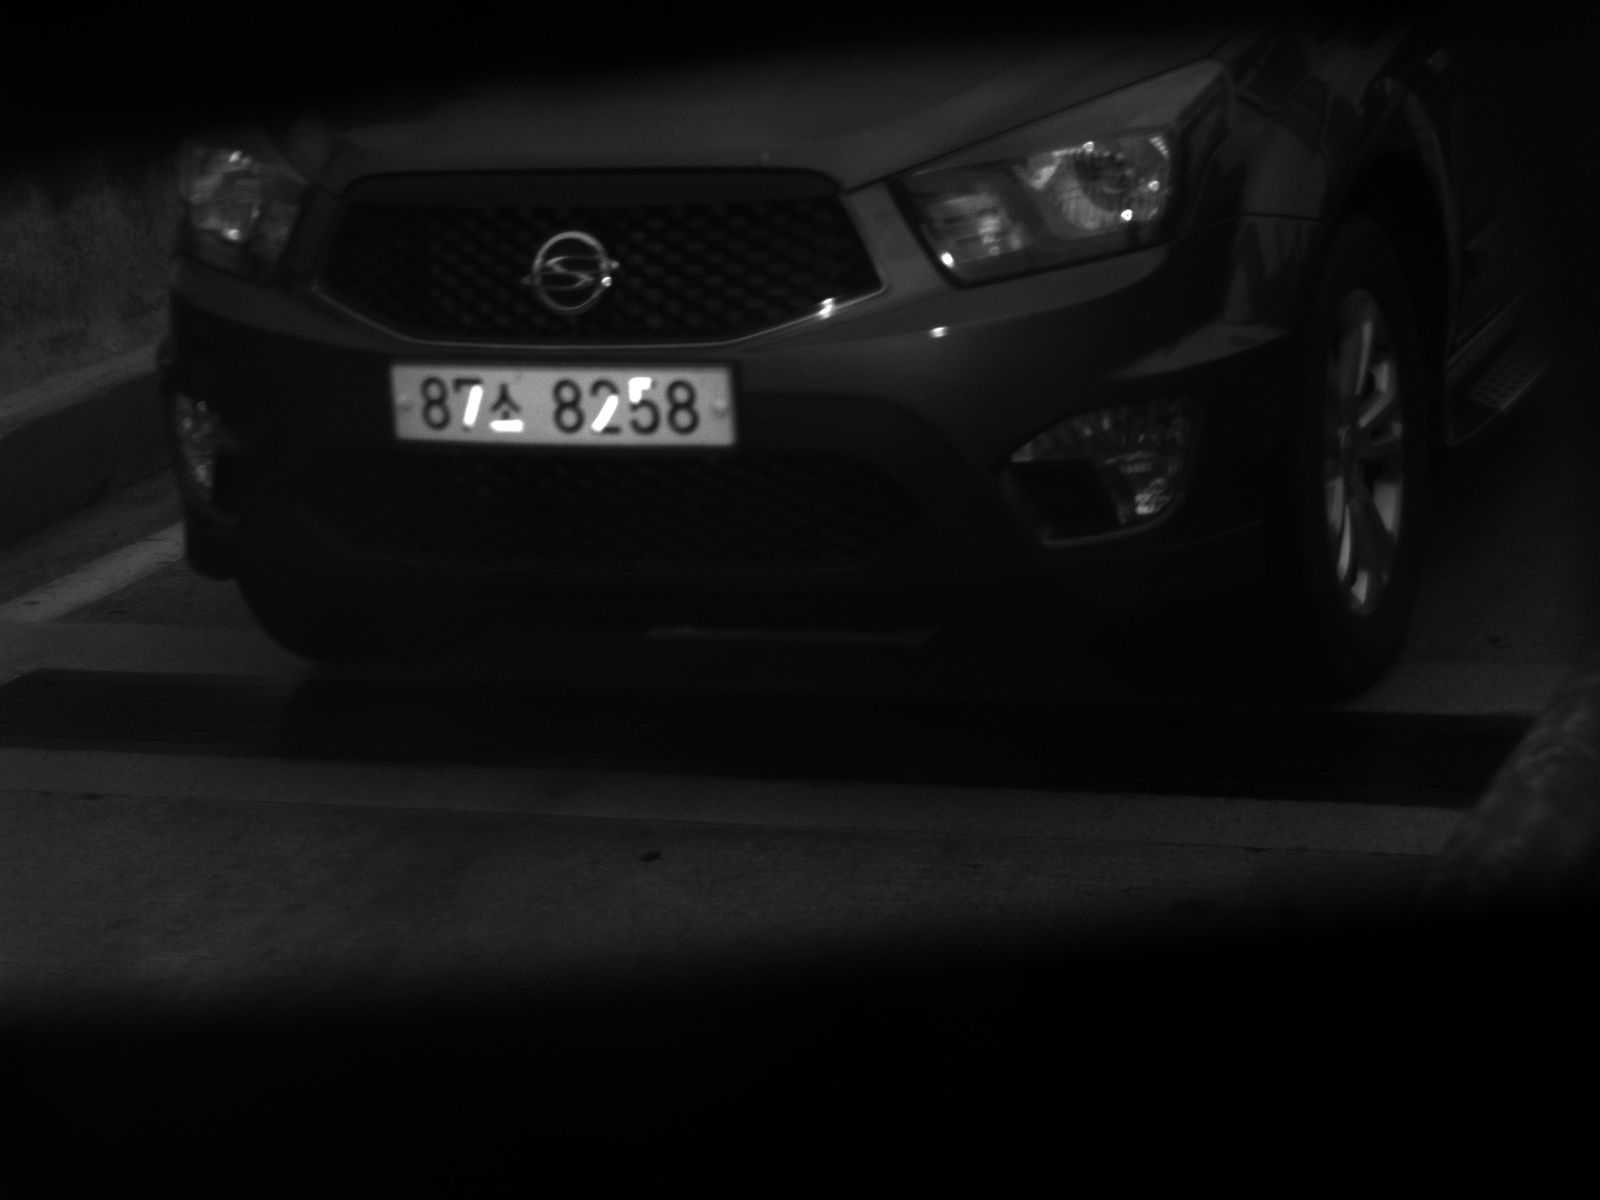car: (157, 40, 1590, 687)
plate: (387, 362, 735, 450)
